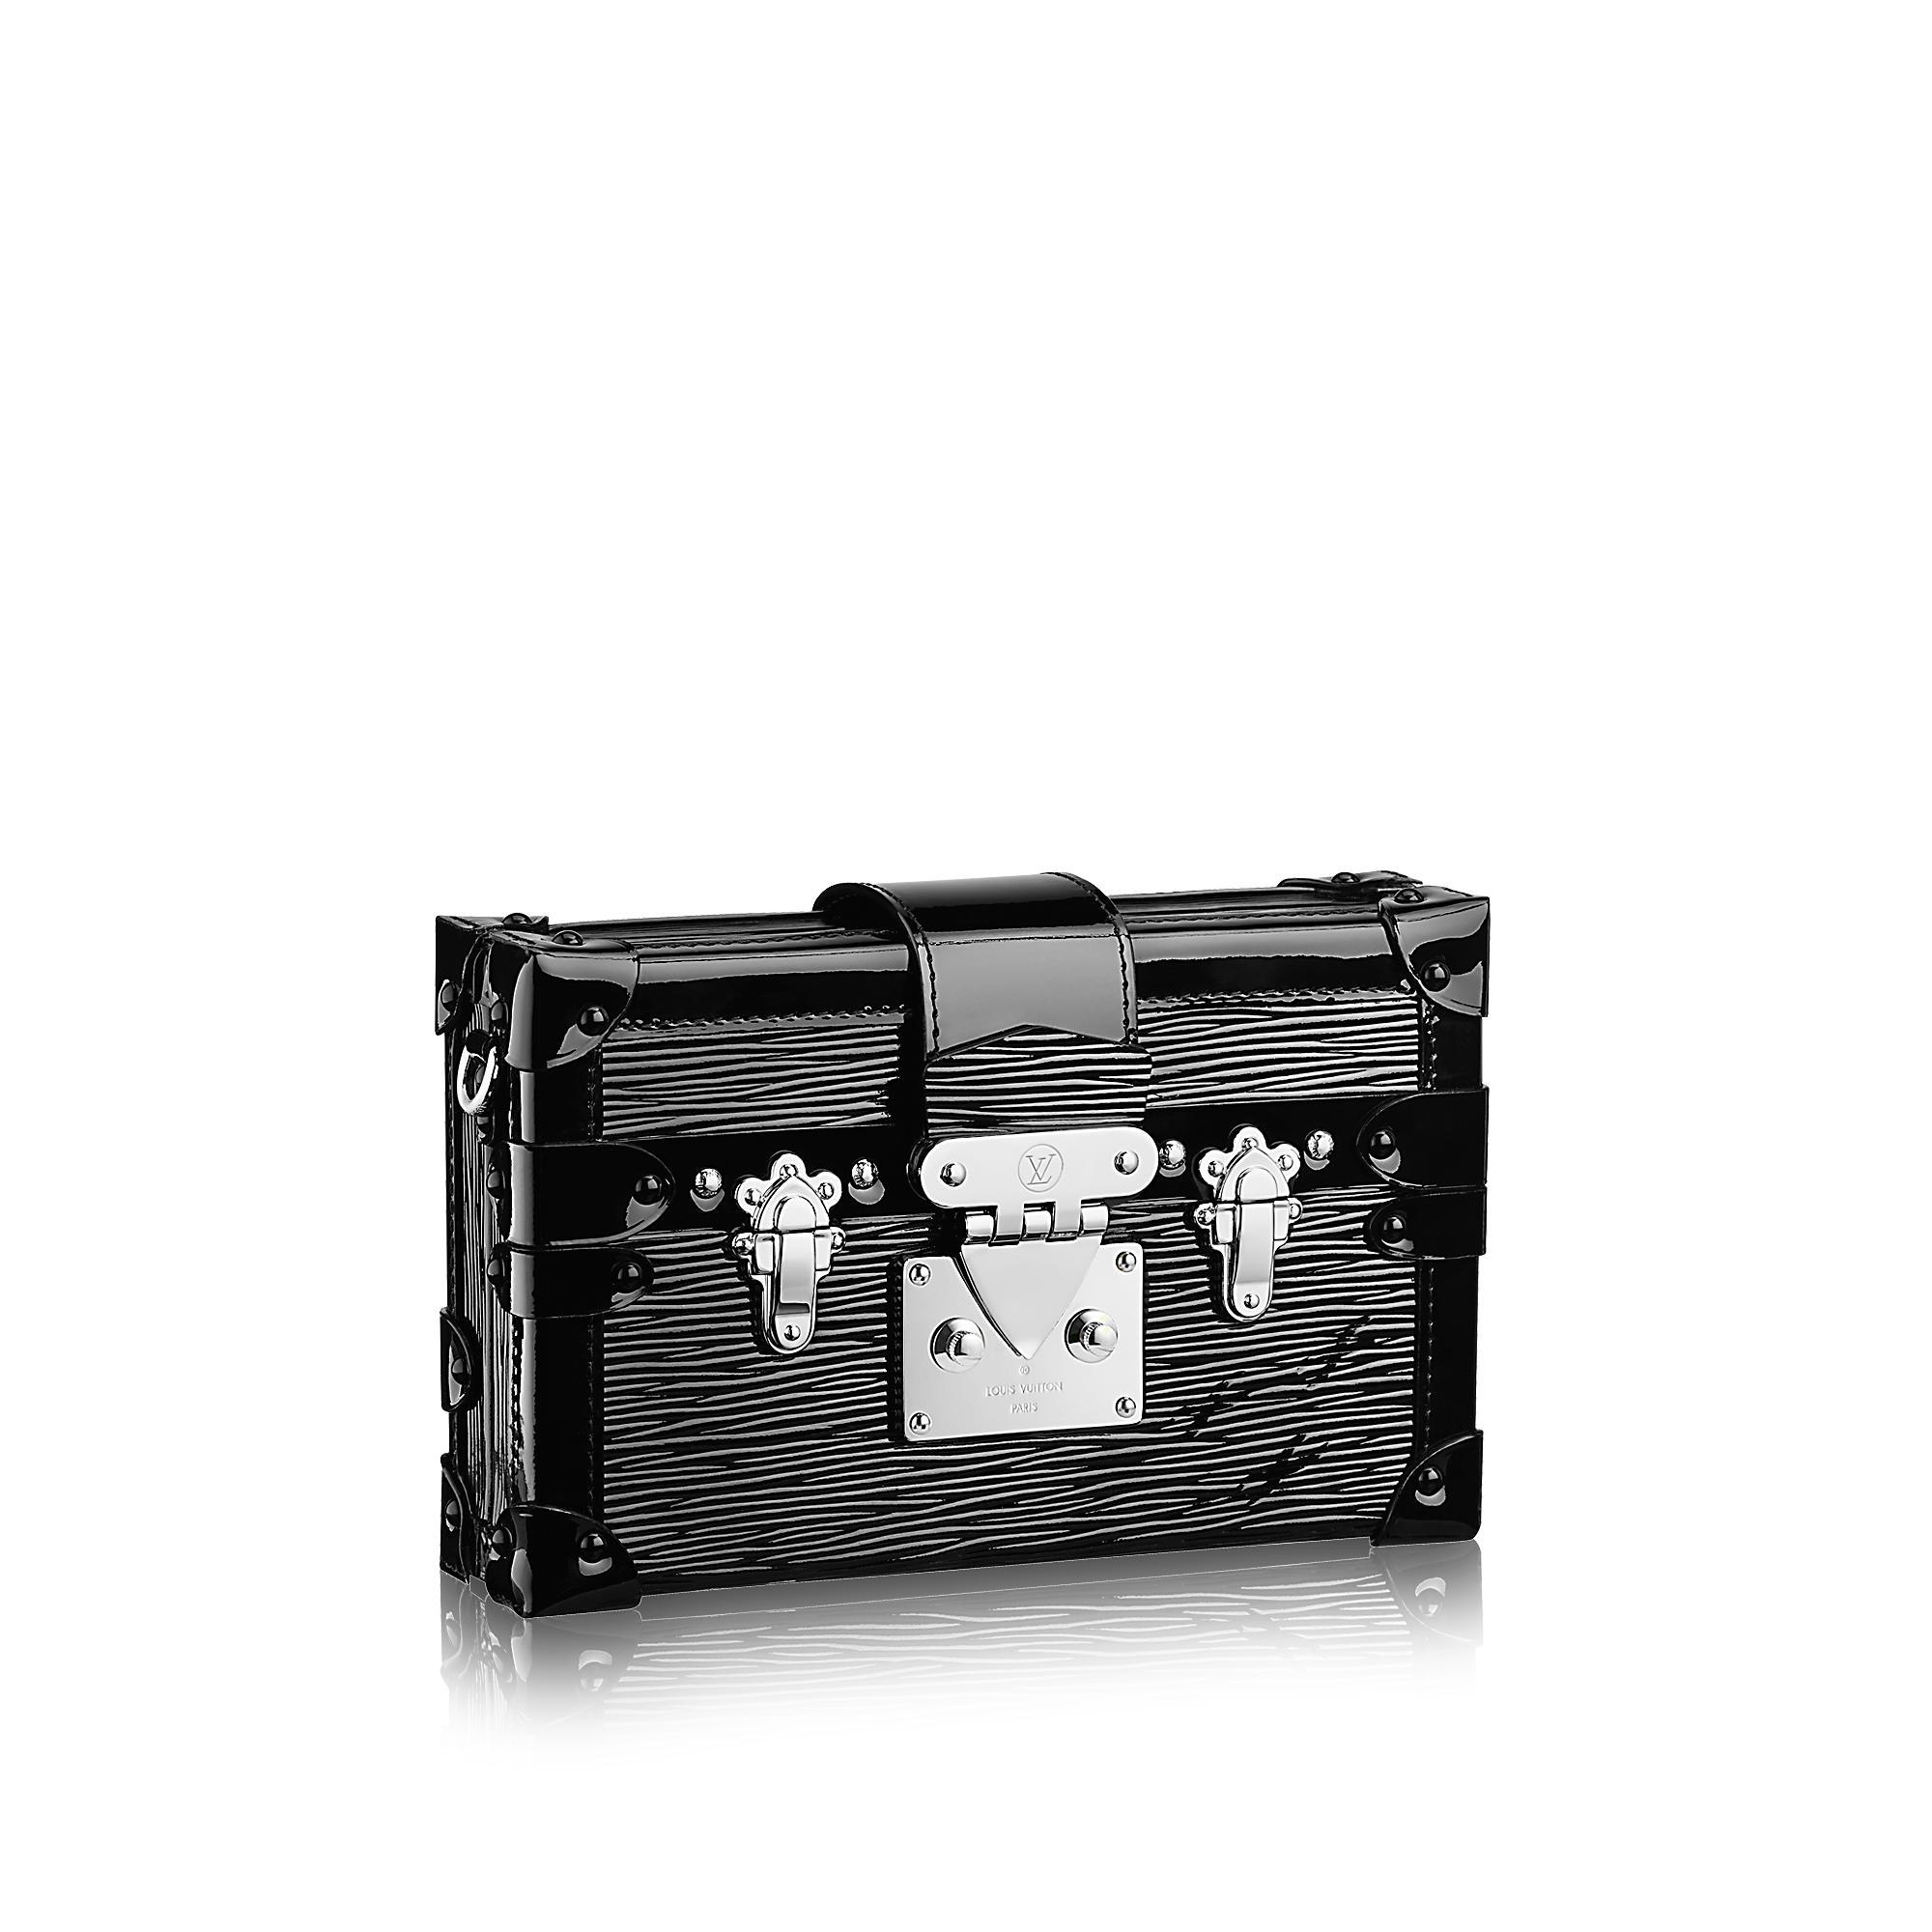LOUIS-VUITTON: (1017, 1141, 1065, 1194)
